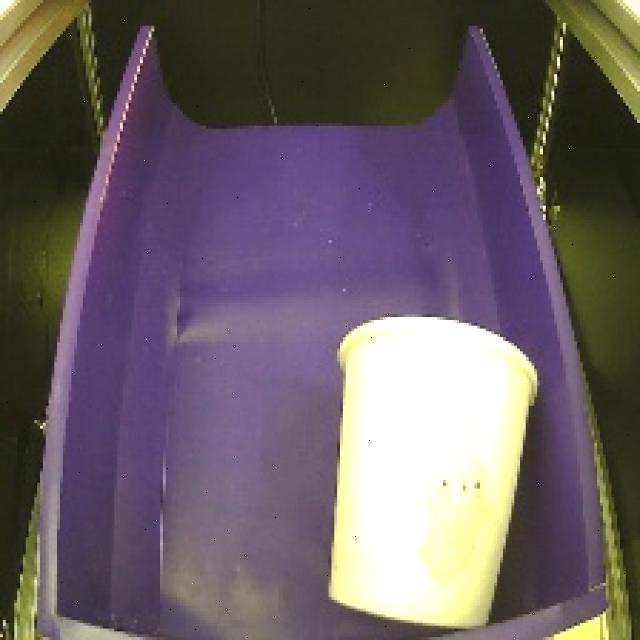cups: (316, 297, 550, 634)
